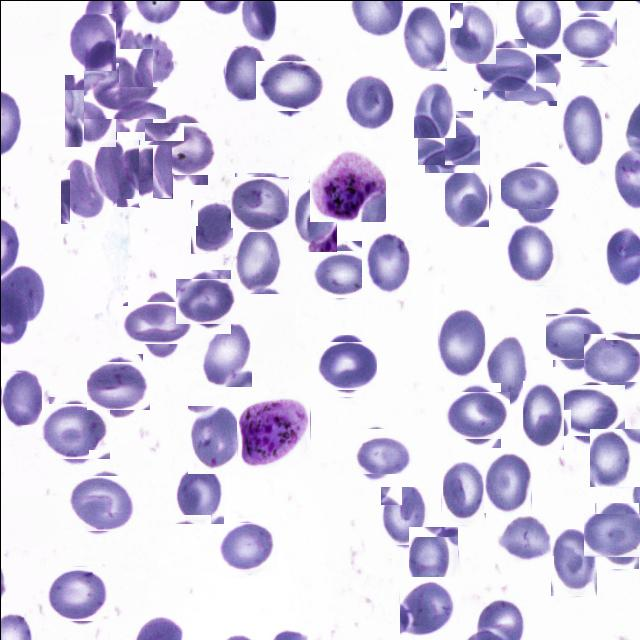red blood cell: (90, 55, 158, 124), (70, 471, 134, 535), (44, 399, 106, 462), (150, 116, 212, 178), (260, 54, 322, 116), (64, 74, 116, 147), (560, 378, 620, 439), (118, 24, 177, 86), (200, 315, 251, 386), (187, 405, 240, 473), (49, 562, 109, 622), (397, 577, 456, 637), (484, 333, 530, 408), (506, 224, 562, 285), (130, 292, 188, 350), (232, 226, 282, 293), (361, 229, 411, 296), (558, 94, 604, 166), (550, 528, 598, 596), (311, 245, 368, 302), (344, 72, 398, 132), (438, 304, 484, 374), (408, 526, 458, 590), (448, 386, 504, 443), (353, 423, 409, 479), (218, 520, 274, 576), (90, 357, 146, 413), (402, 0, 446, 70), (94, 139, 139, 207), (60, 154, 104, 223), (232, 174, 287, 229), (318, 338, 374, 392), (420, 114, 476, 168), (588, 328, 640, 386), (174, 464, 224, 524), (483, 450, 531, 512), (506, 159, 560, 214), (380, 486, 430, 545), (440, 461, 486, 525), (522, 380, 564, 450), (180, 274, 234, 328), (449, 2, 496, 64), (589, 428, 639, 486), (294, 182, 336, 251), (548, 309, 602, 362), (120, 144, 172, 198), (478, 42, 530, 96), (589, 508, 640, 563), (506, 51, 558, 103), (190, 199, 240, 253), (444, 165, 488, 226), (496, 514, 551, 562), (69, 13, 115, 70), (563, 13, 613, 63), (413, 78, 455, 137), (1, 371, 42, 425), (224, 47, 266, 99)
schizont: (236, 394, 310, 473), (309, 150, 385, 221)
